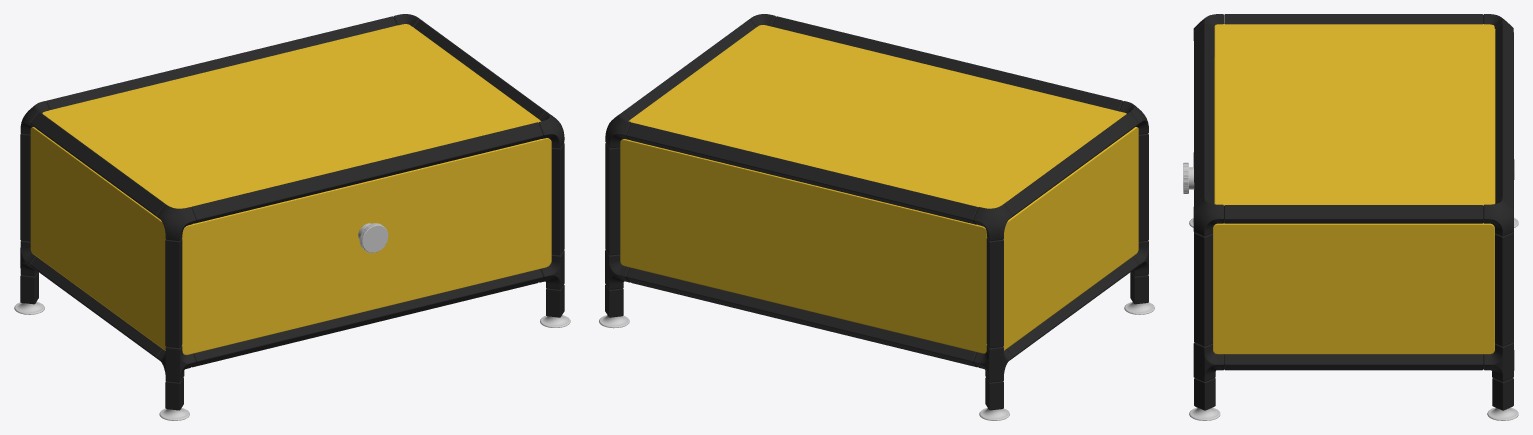
3 renders of one model, left to right at view 1: azimuth 30°, elevation 25°; view 2: azimuth 150°, elevation 25°; view 3: azimuth 270°, elevation 25°, orthographic. The views are drawn at different scales.
Visible parts, largest first — view 1: 523x329x154; view 2: 523x329x154; view 3: 523x329x154.
Part boxes in pixels (left/top/right/bottom): 523x329x154: left=14, top=14, right=570, bottom=420; 523x329x154: left=599, top=14, right=1154, bottom=420; 523x329x154: left=1183, top=14, right=1518, bottom=420.
Bounding box in the file's own units: 0.6129 × 0.2932 × 0.4258.
